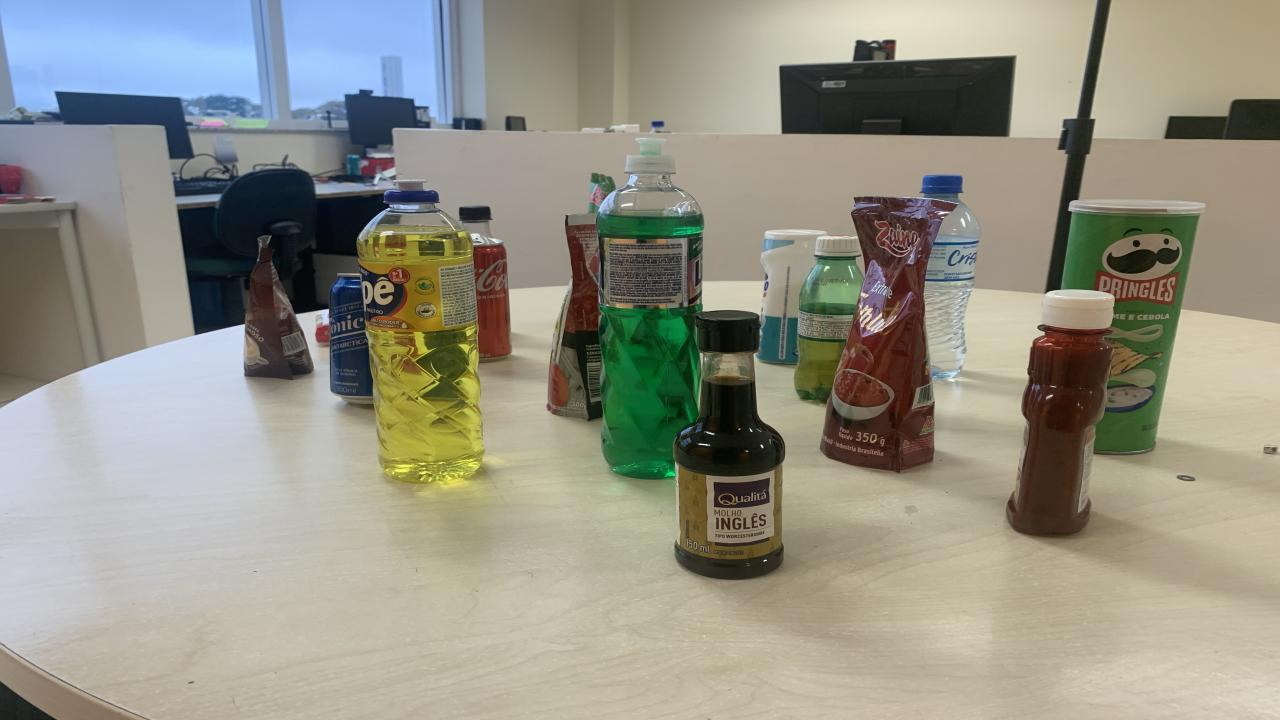Cleaner-Cleanup_Items: (758, 229, 825, 364)
Coffee-Pantry_Items: (242, 236, 312, 379)
Coke-Drinks: (472, 234, 512, 362)
Detergent-Cleanup_Items: (358, 180, 485, 482), (595, 137, 705, 478)
English_Sauce-Pantry_Items: (672, 311, 785, 579)
Guarana-Drinks: (795, 236, 862, 401)
Ketchup-Pantry_Items: (1008, 289, 1115, 534)
Pringles-Snacks: (1060, 199, 1205, 454)
Soap-Cleanup_Items: (315, 309, 330, 345)
Soda-Drinks: (460, 206, 492, 238)
Tomato_Sauce-Pantry_Items: (820, 197, 952, 471), (548, 214, 602, 420), (588, 172, 615, 214)
Tonic-Drinks: (328, 274, 372, 405)
Water_Bottle-Drinks: (922, 174, 980, 379)
